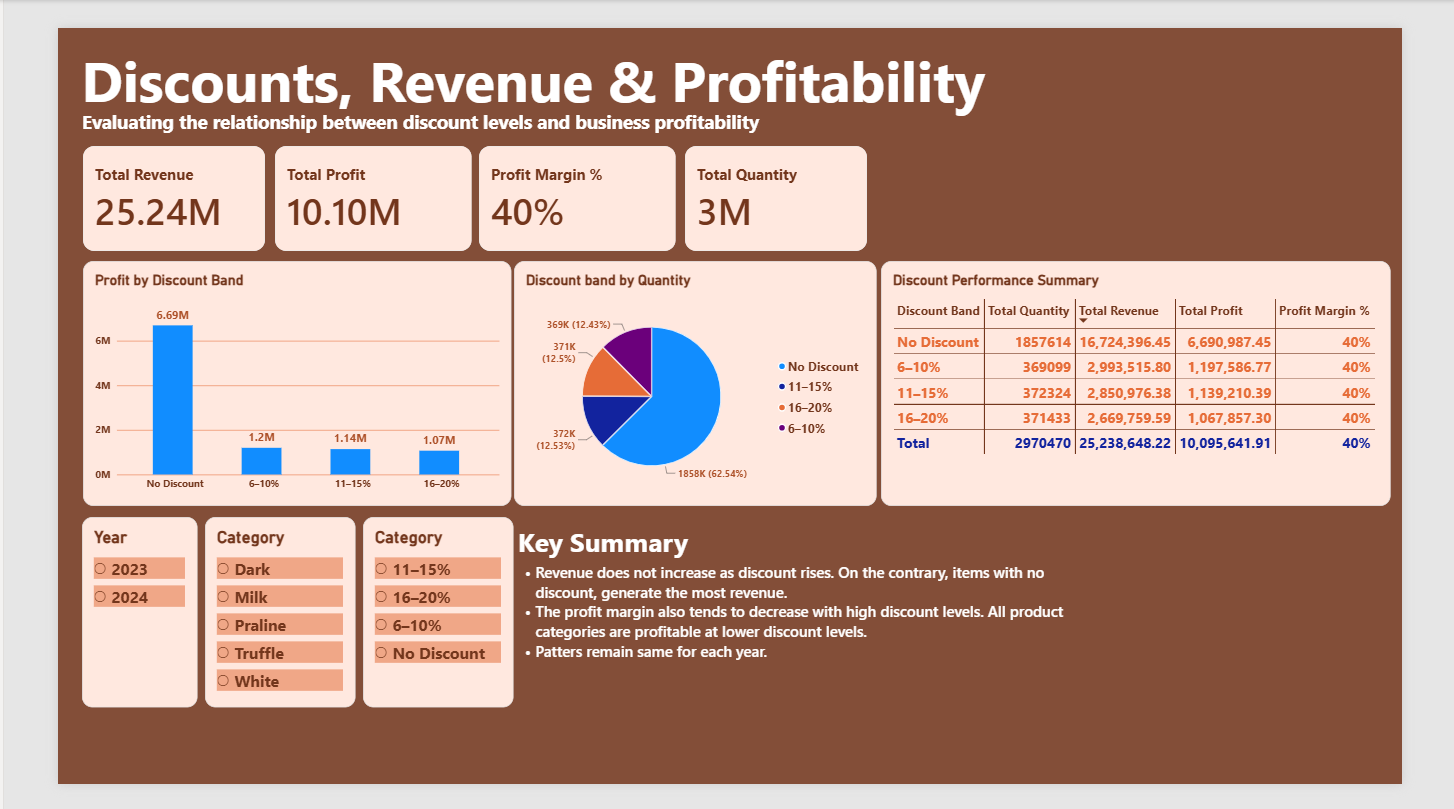

The page's visual inventory and layout, read from the dashboard file:
{"tool":"powerbi","page":{"name":"Discount Impact","canvas":[1920,1080],"ordinal":5},"visuals":[{"type":"textbox","box":[12.1,19.7,1431.7,120.9],"z":0},{"type":"textbox","box":[34.8,59,1071.9,124],"z":1000},{"type":"cardVisual","fields":{"Data":["sales.Total Revenue"]},"box":[35,168.3,260,150],"z":2000},{"type":"cardVisual","fields":{"Data":["sales.Total Quantity"]},"box":[895,168.3,260,150],"z":3000},{"type":"pieChart","title":"Discount band by Quantity","fields":{"Category":["sales.Discount Band"],"Y":["sales.Total Quantity"]},"box":[651.4,332.9,518.6,350],"z":4000},{"type":"listSlicer","title":"Year","fields":{"Values":["calendar.year"]},"box":[34.8,698.5,164.8,272.1],"z":5000},{"type":"listSlicer","title":"Category","fields":{"Values":["products.category"]},"box":[210.1,698.5,214.7,272.1],"z":6000},{"type":"textbox","box":[650.1,763.5,842.1,278.2],"z":8000},{"type":"textbox","box":[657.6,662.2,366.7,160],"z":9000},{"type":"cardVisual","fields":{"Data":["sales.Total Profit"]},"box":[310,168.3,281.7,150],"z":10000},{"type":"cardVisual","fields":{"Data":["sales.Profit Margin %"]},"box":[601.7,168.3,281.7,150],"z":11000},{"type":"tableEx","title":"Discount Performance Summary","fields":{"Values":["sales.Discount Band","sales.Total Quantity","sales.Total Revenue","sales.Total Profit","sales.Profit Margin %"]},"box":[1174.3,332.9,727.1,350],"z":11001},{"type":"listSlicer","title":"Category","fields":{"Values":["sales.Discount Band"]},"box":[435.4,698.5,214.7,272.1],"z":11002},{"type":"clusteredColumnChart","title":"Profit by Discount Band","fields":{"Category":["sales.Discount Band"],"Y":["sales.Total Profit"]},"box":[35,333.3,611.7,350],"z":11003}]}

Visuals, with their boxes in screenshot pixels (x1, y1, x2, y2), scaled from the page's 1920x1080 canvas onto the 1454x809 screenshot:
textbox: [9,15,1093,105]
textbox: [26,44,838,137]
cardVisual - sales.Total Revenue: [27,126,223,238]
cardVisual - sales.Total Quantity: [678,126,875,238]
"Discount band by Quantity" pieChart: [493,249,886,512]
"Year" listSlicer: [26,523,151,727]
"Category" listSlicer: [159,523,322,727]
textbox: [492,572,1130,780]
textbox: [498,496,776,616]
cardVisual - sales.Total Profit: [235,126,448,238]
cardVisual - sales.Profit Margin %: [456,126,669,238]
"Discount Performance Summary" tableEx: [889,249,1440,512]
"Category" listSlicer: [330,523,492,727]
"Profit by Discount Band" clusteredColumnChart: [27,250,490,512]
